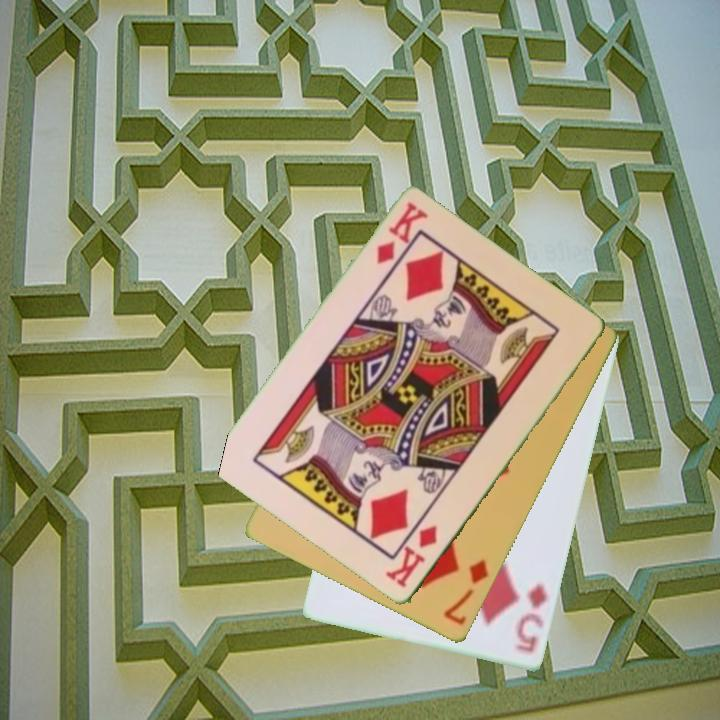5d: (511, 580, 551, 657)
7d: (440, 556, 492, 629)
Kd: (384, 521, 441, 591), (373, 199, 430, 268)
